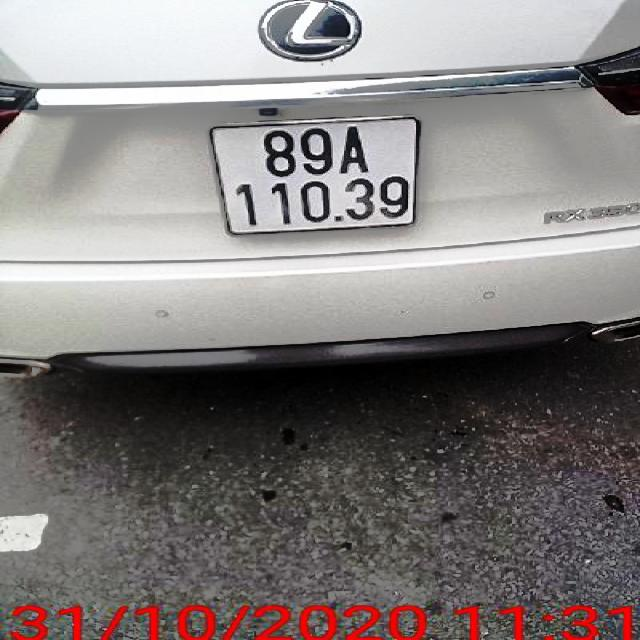license_plate: (207, 119, 421, 236)
